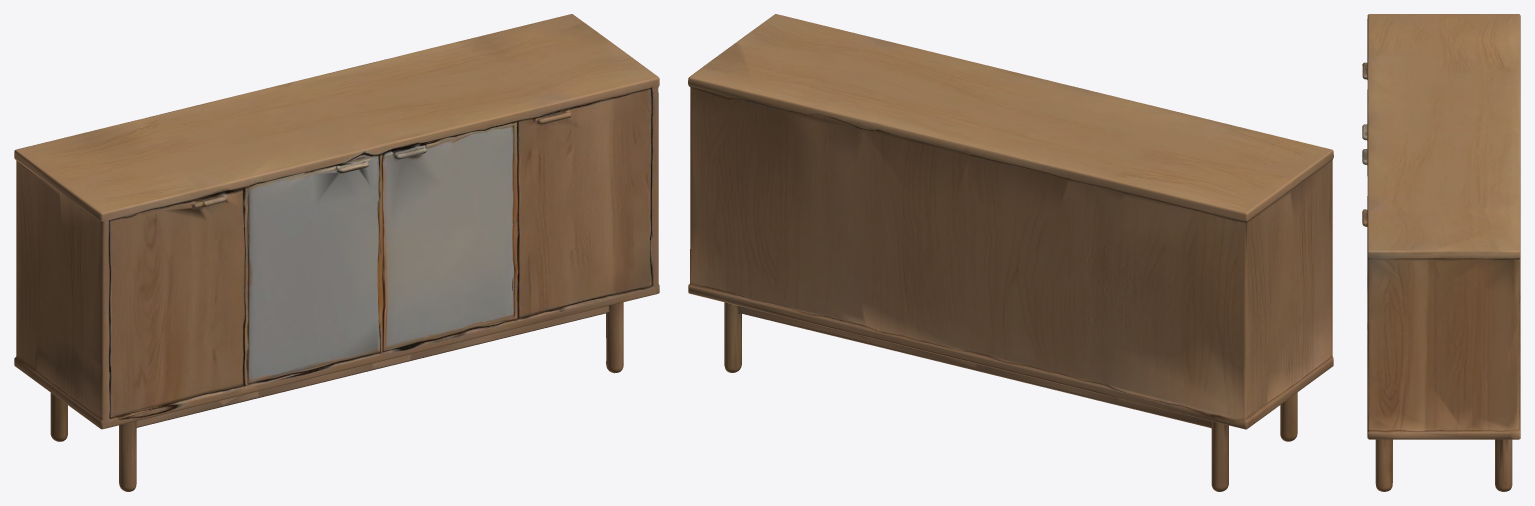
Rendered from sideboard.7426b5c7.glb.
3 renders of one model, left to right at view 1: azimuth 30°, elevation 25°; view 2: azimuth 150°, elevation 25°; view 3: azimuth 270°, elevation 25°, orthographic. The views are drawn at different scales.
Visible parts, largest first — view 1: tripo_node_f8887816-0818-4a8e-baa8-2fe1c4bd08ea; view 2: tripo_node_f8887816-0818-4a8e-baa8-2fe1c4bd08ea; view 3: tripo_node_f8887816-0818-4a8e-baa8-2fe1c4bd08ea.
Boxes of the visible parts, box(x1,y1,x2,y2) form: tripo_node_f8887816-0818-4a8e-baa8-2fe1c4bd08ea: box(14, 14, 659, 491); tripo_node_f8887816-0818-4a8e-baa8-2fe1c4bd08ea: box(688, 14, 1333, 491); tripo_node_f8887816-0818-4a8e-baa8-2fe1c4bd08ea: box(1362, 14, 1520, 491).
Size of the model in its own units: 1.6 by 0.8001 by 0.45.
1 material, 1 textured.
